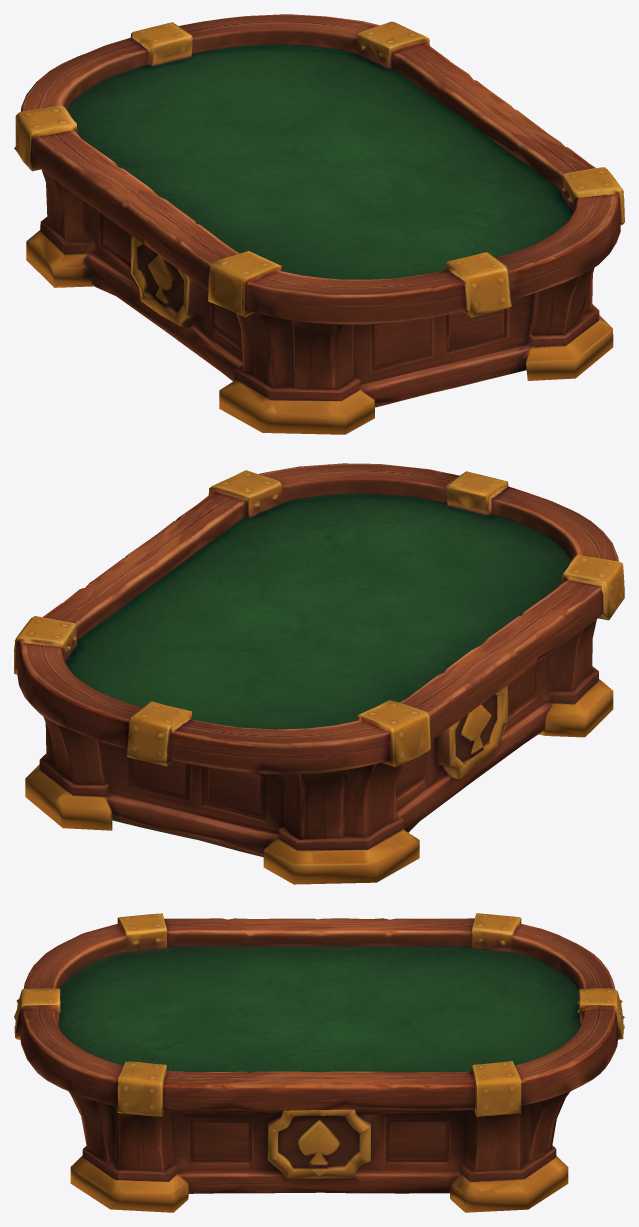
Rendered from tavern-table.glb.
3 views of the same model, one above another, from view 1: azimuth 30°, elevation 25°; view 2: azimuth 150°, elevation 25°; view 3: azimuth 270°, elevation 25° (orthographic). The views are drawn at different scales.
Visible parts, largest first — view 1: tripo_node_ccb96427-2084-46e7-9e90-dc8717f0723a; view 2: tripo_node_ccb96427-2084-46e7-9e90-dc8717f0723a; view 3: tripo_node_ccb96427-2084-46e7-9e90-dc8717f0723a.
Boxes of the visible parts, x1,y1,x2,y2 form: tripo_node_ccb96427-2084-46e7-9e90-dc8717f0723a: [14, 14, 624, 434]; tripo_node_ccb96427-2084-46e7-9e90-dc8717f0723a: [14, 463, 624, 884]; tripo_node_ccb96427-2084-46e7-9e90-dc8717f0723a: [14, 913, 624, 1212].
Size of the model in its own units: 0.6766 by 0.2527 by 1.
1 material, 1 textured.
